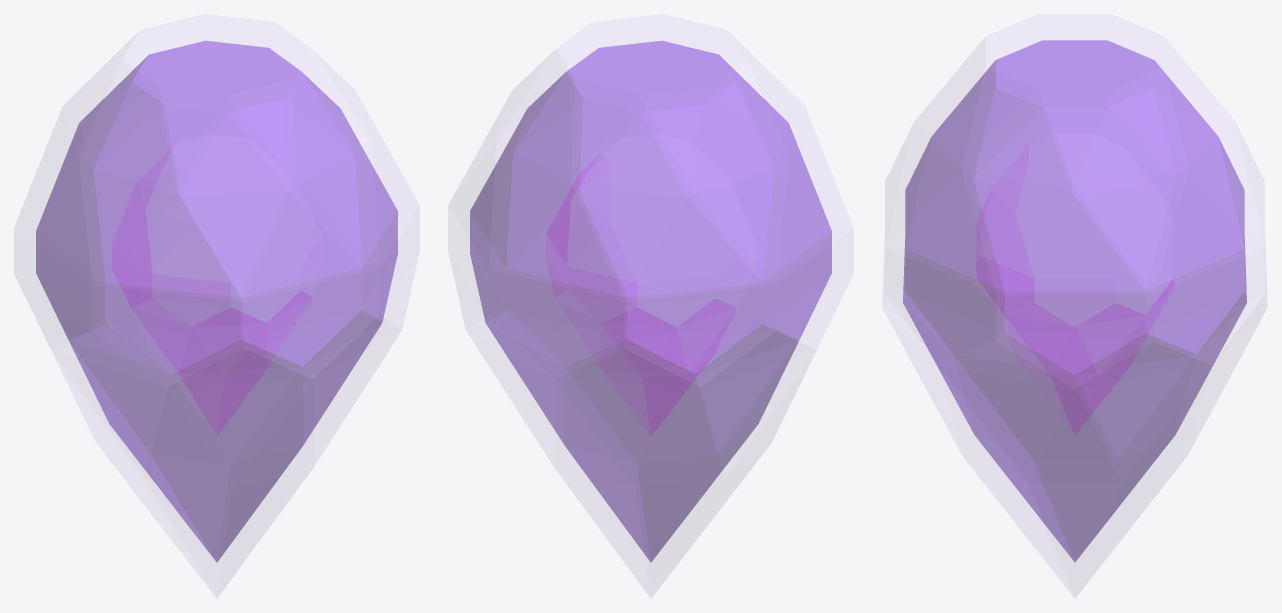
Rendered from loot-gem.glb.
3 views of the same model, side by side, from view 1: azimuth 30°, elevation 25°; view 2: azimuth 150°, elevation 25°; view 3: azimuth 270°, elevation 25° (orthographic).
Parts seen in each view (by area): view 1: LootGem; view 2: LootGem; view 3: LootGem.
Boxes of the visible parts, x1,y1,x2,y2 form: LootGem: (36,40,397,562); LootGem: (470,40,831,562); LootGem: (903,40,1246,562).
Bounding box in the file's own units: 0.672 × 1.05 × 0.672.
